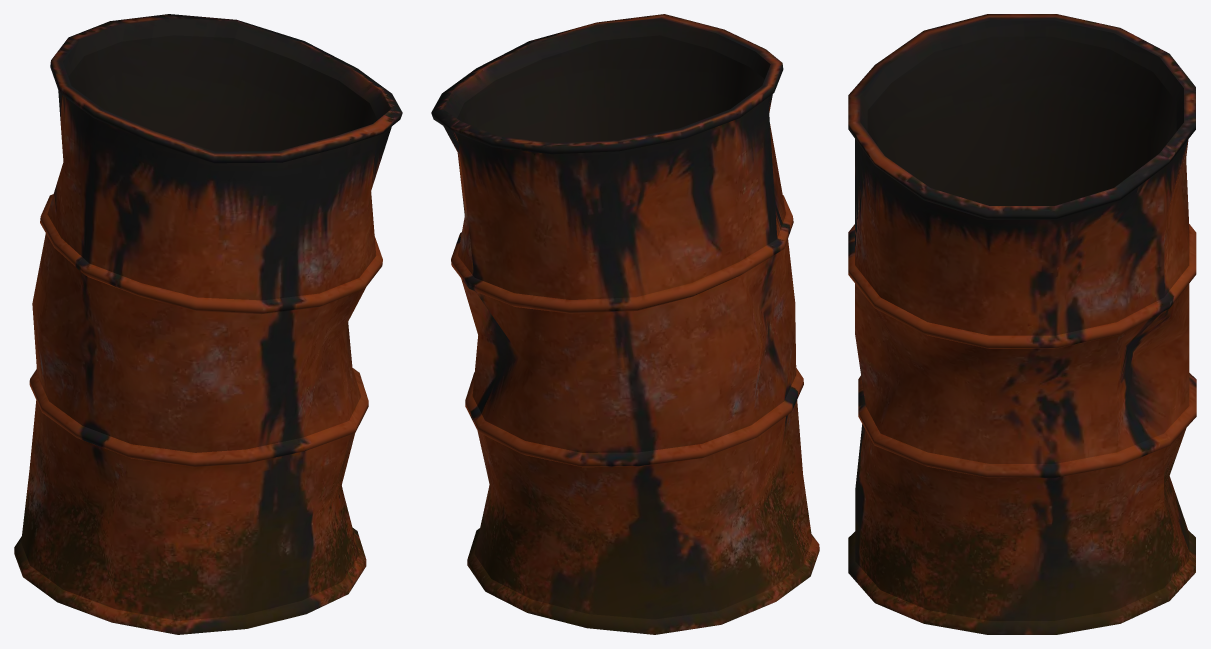
Rendered from oil-barrel.glb.
3 views of the same model, side by side, from view 1: azimuth 30°, elevation 25°; view 2: azimuth 150°, elevation 25°; view 3: azimuth 270°, elevation 25° (orthographic).
Parts seen in each view (by area): view 1: Oil_Barell_GEO_oil_barell_0; view 2: Oil_Barell_GEO_oil_barell_0; view 3: Oil_Barell_GEO_oil_barell_0.
Boxes of the visible parts, box(x1,y1,x2,y2) form: Oil_Barell_GEO_oil_barell_0: box(14, 14, 402, 634); Oil_Barell_GEO_oil_barell_0: box(431, 14, 819, 634); Oil_Barell_GEO_oil_barell_0: box(848, 14, 1196, 634).
Size of the model in its own units: 0.7157 by 1 by 0.6423.
1 material, 1 textured.
